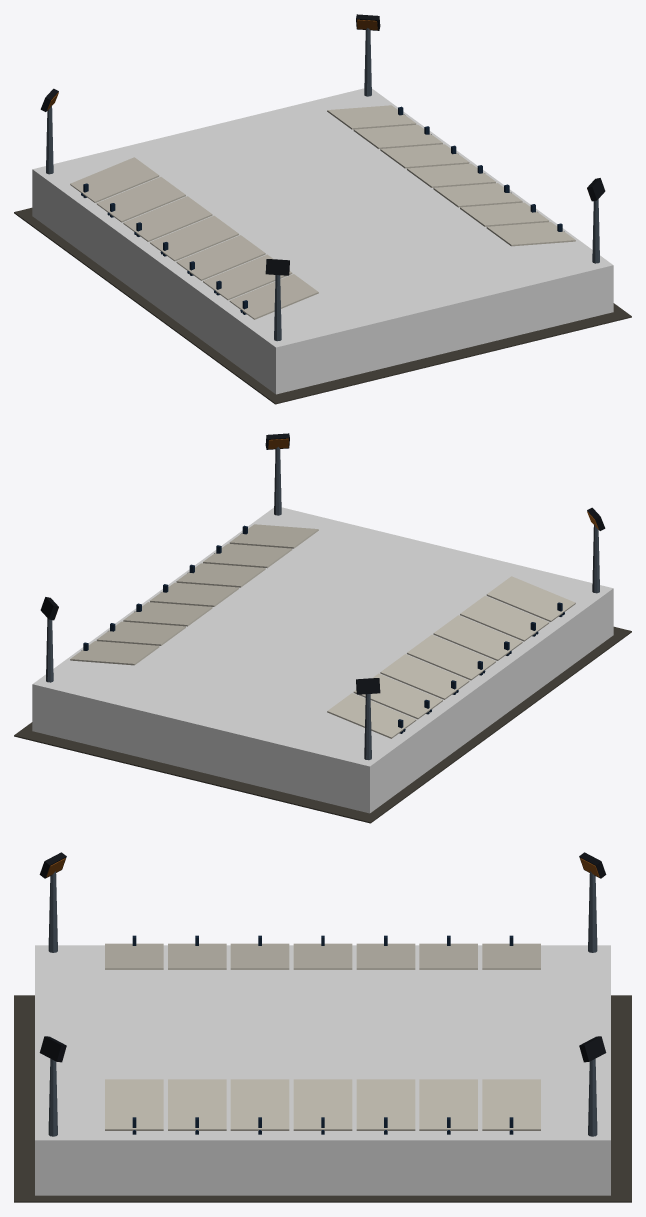
File: B50_stadium_bowl.glb
3 renders of one model, top to bottom at view 1: azimuth 30°, elevation 25°; view 2: azimuth 150°, elevation 25°; view 3: azimuth 270°, elevation 25°, orthographic. The views are drawn at different scales.
Parts seen in each view (by area): view 1: COL_Main, LOD0; view 2: COL_Main, LOD0; view 3: COL_Main, LOD0.
Boxes of the visible parts, left/top/right/bottom form: COL_Main: left=32, top=88, right=613, bottom=394; LOD0: left=14, top=14, right=631, bottom=404; COL_Main: left=32, top=507, right=613, bottom=813; LOD0: left=14, top=433, right=631, bottom=823; COL_Main: left=35, top=945, right=610, bottom=1195; LOD0: left=14, top=852, right=631, bottom=1202.
Size of what is drawn, in the model's own units: 93 by 31.84 by 118.
